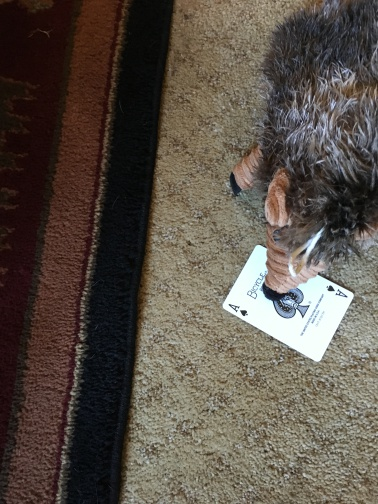ace: (221, 245, 354, 362)
